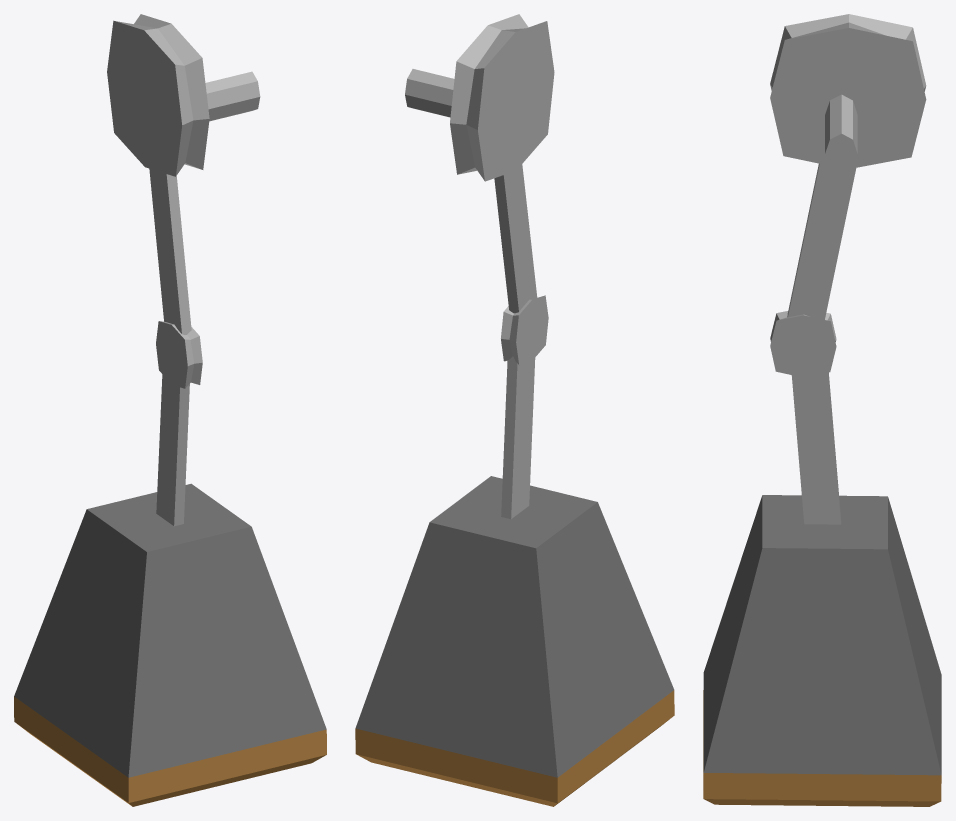
Rendered from PraedatumSecurityBotArm.glb.
The picture shows the model from 3 angles, left to right: view 1: azimuth 30°, elevation 25°; view 2: azimuth 150°, elevation 25°; view 3: azimuth 270°, elevation 25°; orthographic projection. The views are drawn at different scales.
Visible parts, largest first — view 1: ArmHand, Arm, ArmFirstLength, ArmForearm, ArmElbow, ArmSprut; view 2: ArmHand, Arm, ArmForearm, ArmFirstLength, ArmElbow, ArmSprut; view 3: ArmHand, Arm, ArmFirstLength, ArmForearm, ArmElbow, ArmSprut.
Part boxes in pixels (x1,y1,x2,y2): ArmHand: (14,483,326,806); Arm: (107,14,209,176); ArmFirstLength: (149,168,191,334); ArmForearm: (156,374,189,526); ArmElbow: (156,321,202,388); ArmSprut: (205,71,260,121); ArmHand: (355,476,674,806); Arm: (450,14,554,181); ArmForearm: (501,356,535,519); ArmFirstLength: (494,164,537,313); ArmElbow: (501,295,548,364); ArmSprut: (405,69,454,117); ArmHand: (703,495,941,806); Arm: (770,14,926,168); ArmFirstLength: (787,163,856,319); ArmForearm: (791,372,841,524); ArmElbow: (770,311,836,377); ArmSprut: (825,94,857,173).
Size of the model in its own units: 0.9881 by 3.39 by 0.9894.
